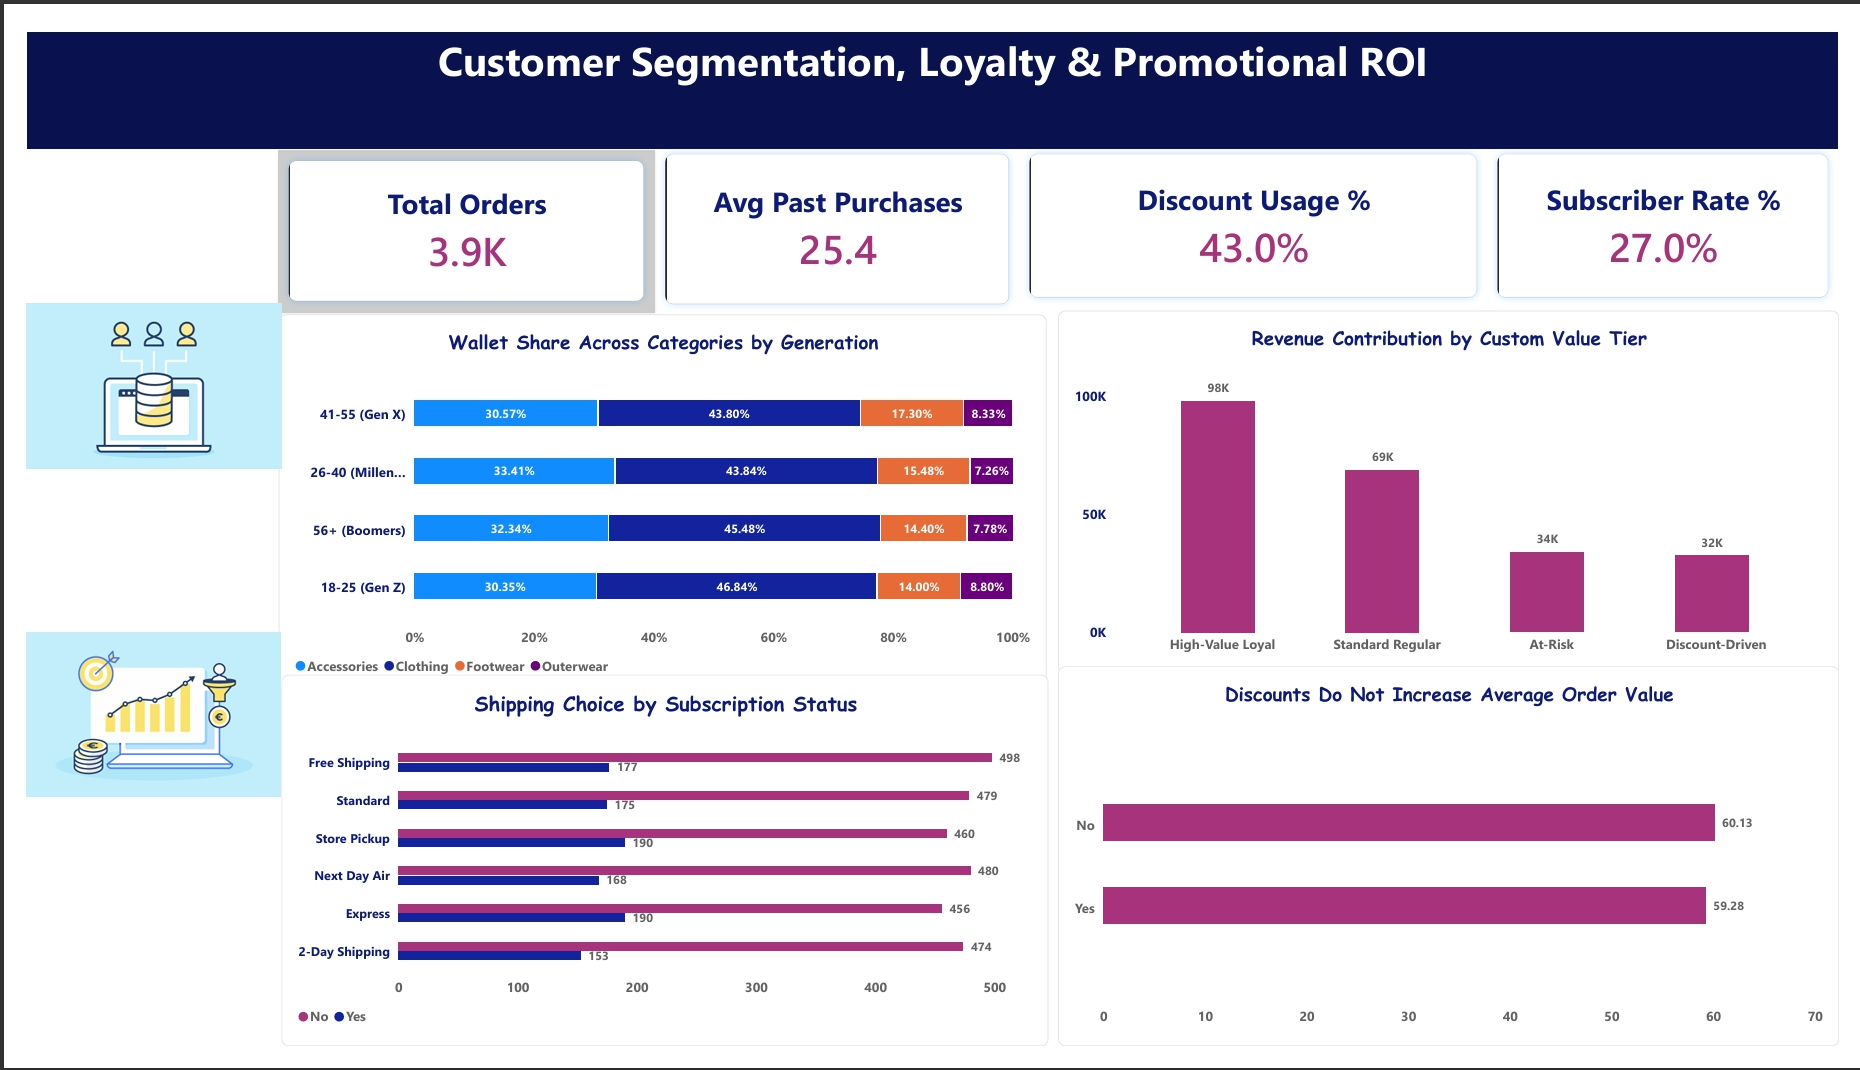

The dashboard page shown, as its layout file describes it:
{"tool":"powerbi","page":{"name":"Customer Loyalty & Promo ROI","canvas":[1920,1080],"ordinal":1},"visuals":[{"type":"textbox","box":[0,5,1920,142.5],"z":0},{"type":"cardVisual","fields":{"Data":["shopping_trends customer.Subscriber Rate %"]},"box":[1530,147.5,390,137.5],"z":1000},{"type":"cardVisual","fields":{"Data":["shopping_trends customer.Total Orders"]},"box":[302.5,147.5,322.5,157.5],"z":2000},{"type":"cardVisual","fields":{"Data":["shopping_trends customer.Avg Past Purchases"]},"box":[625,147.5,475,157.5],"z":3000},{"type":"cardVisual","fields":{"Data":["shopping_trends customer.Discount Usage %"]},"box":[1100,147.5,410,137.5],"z":4000},{"type":"clusteredColumnChart","title":"Revenue Contribution by Custom Value Tier","fields":{"Category":["shopping_trends customer.customer_value_tier"],"Y":["shopping_trends customer.Total Revenue"]},"box":[1100,305,820,357.5],"z":5000},{"type":"hundredPercentStackedBarChart","title":"Wallet Share Across Categories by Generation","fields":{"Category":["shopping_trends customer.age_group"],"Series":["shopping_trends customer.category"],"Y":["shopping_trends customer.Total Revenue"]},"box":[302.5,305,797.5,372.5],"z":6000},{"type":"clusteredBarChart","title":"Discounts Do Not Increase Average Order Value","fields":{"Category":["shopping_trends customer.discount_applied"],"Y":["shopping_trends customer.Average Order Value"]},"box":[1100,677.5,820,402.5],"z":7000},{"type":"clusteredBarChart","title":"Shipping Choice by Subscription Status","fields":{"Category":["shopping_trends customer.shipping_type"],"Series":["shopping_trends customer.subscription_status"],"Y":["shopping_trends customer.Total Orders"]},"box":[302.5,677.5,797.5,402.5],"z":8000},{"type":"image","box":[0,432.5,302.5,460],"z":8001},{"type":"image","box":[0,147.5,303,402],"z":8002}]}

Visuals, with their boxes in screenshot pixels (x1, y1, x2, y2), scaled from the page's 1920x1080 canvas onto the 1860x1070 screenshot:
textbox: x1=0, y1=5, x2=1859, y2=146
cardVisual - shopping_trends customer.Subscriber Rate %: x1=1482, y1=146, x2=1859, y2=282
cardVisual - shopping_trends customer.Total Orders: x1=293, y1=146, x2=605, y2=302
cardVisual - shopping_trends customer.Avg Past Purchases: x1=605, y1=146, x2=1066, y2=302
cardVisual - shopping_trends customer.Discount Usage %: x1=1066, y1=146, x2=1463, y2=282
"Revenue Contribution by Custom Value Tier" clusteredColumnChart: x1=1066, y1=302, x2=1859, y2=656
"Wallet Share Across Categories by Generation" hundredPercentStackedBarChart: x1=293, y1=302, x2=1066, y2=671
"Discounts Do Not Increase Average Order Value" clusteredBarChart: x1=1066, y1=671, x2=1859, y2=1069
"Shipping Choice by Subscription Status" clusteredBarChart: x1=293, y1=671, x2=1066, y2=1069
image: x1=0, y1=428, x2=293, y2=884
image: x1=0, y1=146, x2=294, y2=544
